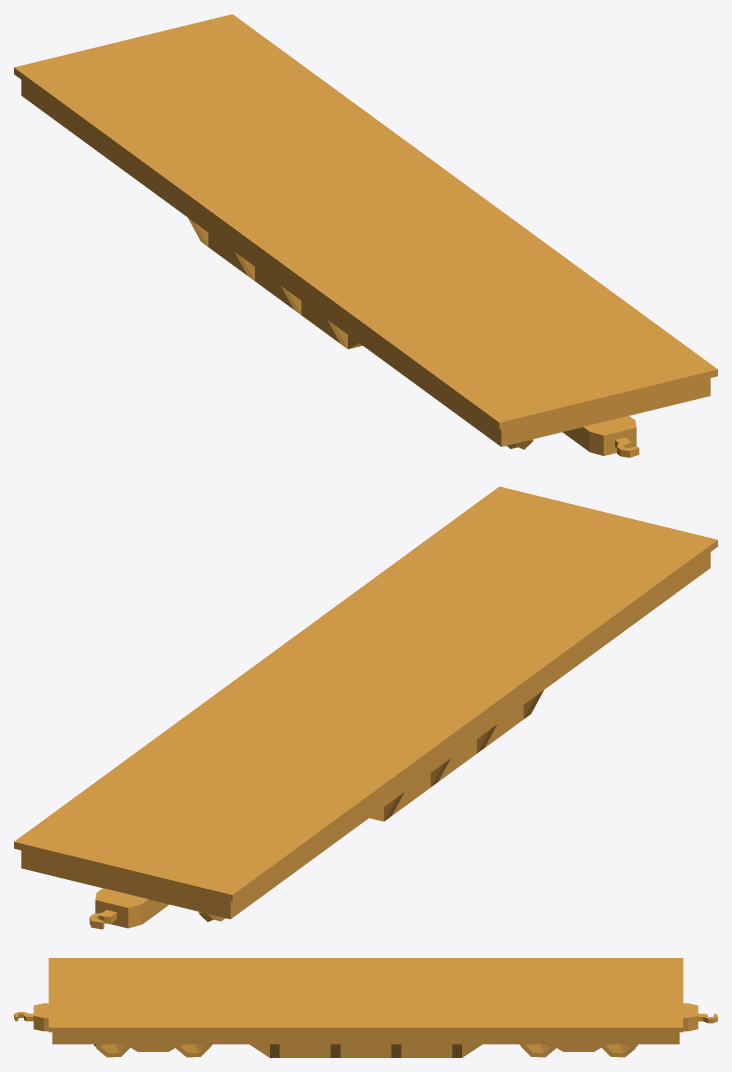
Rendered from train-wagon-cargo.glb.
3 views of the same model, one above another, from view 1: azimuth 30°, elevation 25°; view 2: azimuth 150°, elevation 25°; view 3: azimuth 270°, elevation 25° (orthographic). The views are drawn at different scales.
Visible parts, largest first — view 1: train-wagon-cargo-base; view 2: train-wagon-cargo-base; view 3: train-wagon-cargo-base, train-wagon-cargo-wheel_B1, train-wagon-cargo-wheel_F2, train-wagon-cargo-wheel_B2, train-wagon-cargo-wheel_F1, train-wagon-cargo-frame_B, train-wagon-cargo-frame_F.
Boxes of the visible parts, bbox=[...] form: train-wagon-cargo-base: bbox=[14, 14, 717, 457]; train-wagon-cargo-base: bbox=[14, 486, 717, 929]; train-wagon-cargo-base: bbox=[14, 958, 717, 1057]; train-wagon-cargo-wheel_B1: bbox=[519, 1044, 555, 1057]; train-wagon-cargo-wheel_F2: bbox=[176, 1044, 212, 1057]; train-wagon-cargo-wheel_B2: bbox=[601, 1044, 637, 1057]; train-wagon-cargo-wheel_F1: bbox=[94, 1044, 130, 1057]; train-wagon-cargo-frame_B: bbox=[550, 1044, 606, 1051]; train-wagon-cargo-frame_F: bbox=[125, 1044, 181, 1051].
Bounding box in the file's own units: 3.34 × 1.11 × 14.26.
